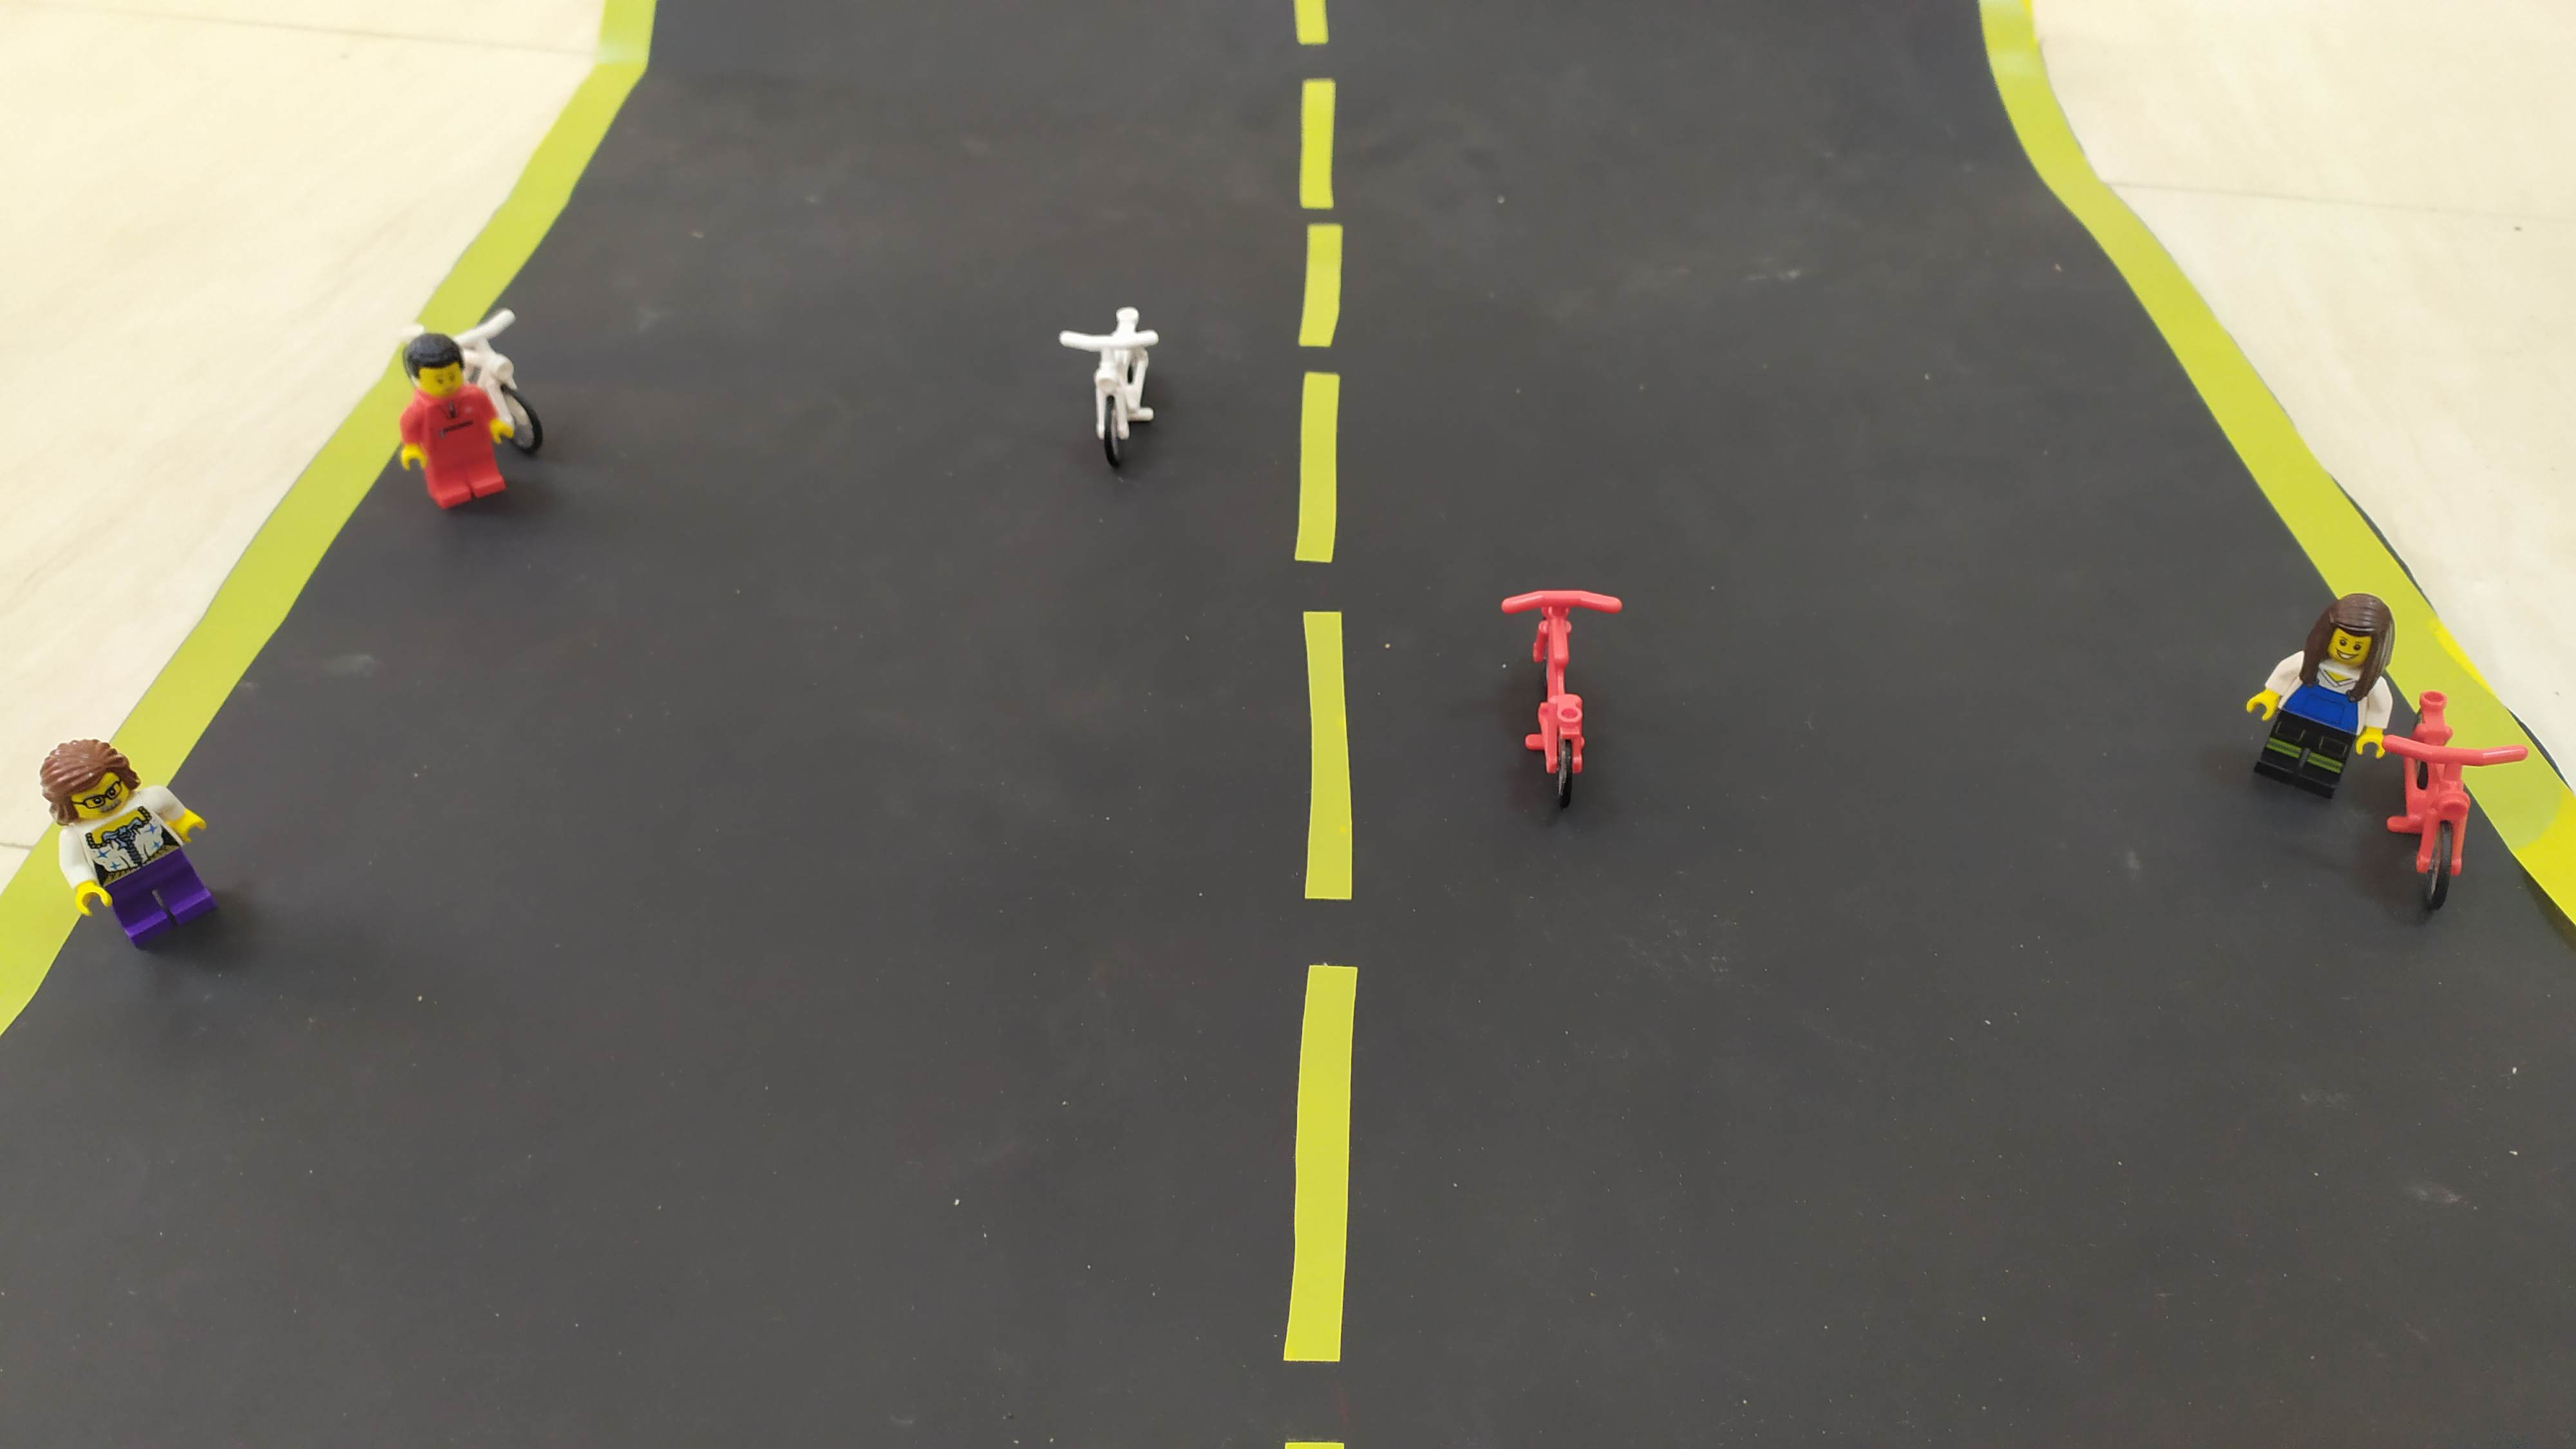Person: (23, 712, 267, 989), (2238, 589, 2405, 802), (377, 319, 538, 531)
